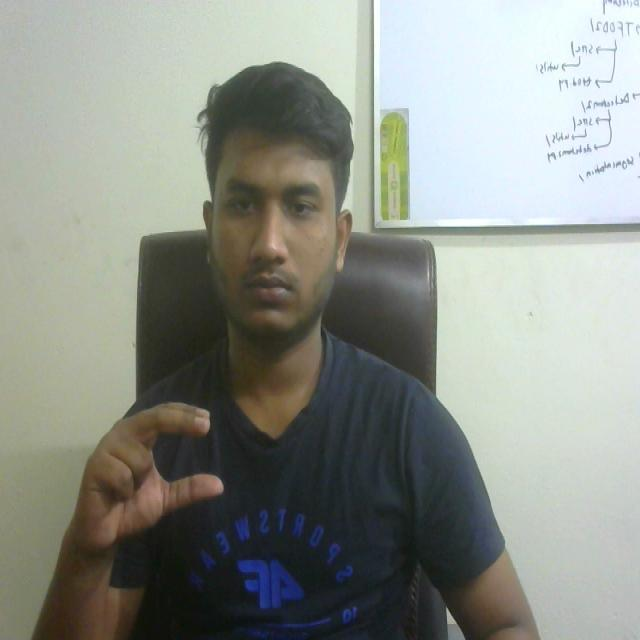D: (54, 380, 238, 584)
